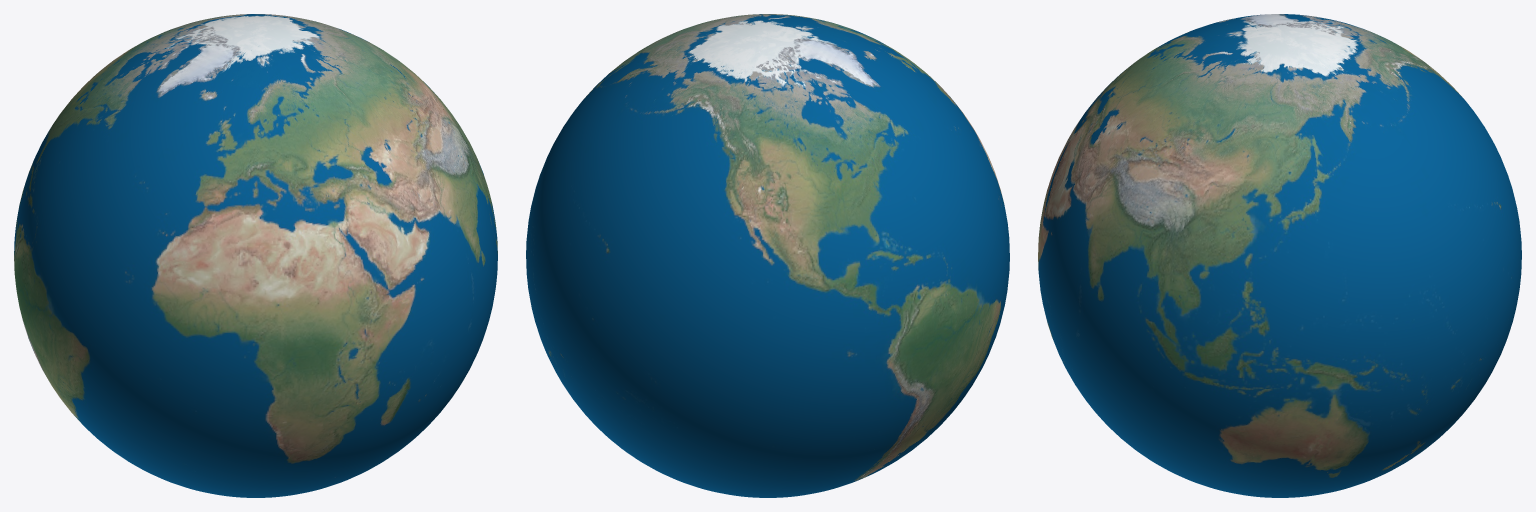
The model's file is earth1.FBX.
The picture shows the model from 3 angles, left to right: view 1: azimuth 30°, elevation 25°; view 2: azimuth 150°, elevation 25°; view 3: azimuth 270°, elevation 25°; orthographic projection.
Visible parts, largest first — view 1: Atmosphere; view 2: Atmosphere; view 3: Atmosphere.
Boxes of the visible parts, <box> form: Atmosphere: <box>14,14,497,497</box>; Atmosphere: <box>526,14,1009,497</box>; Atmosphere: <box>1038,14,1521,497</box>.
Size of the model in its own units: 148 by 148 by 148.
1 material, 1 textured.
